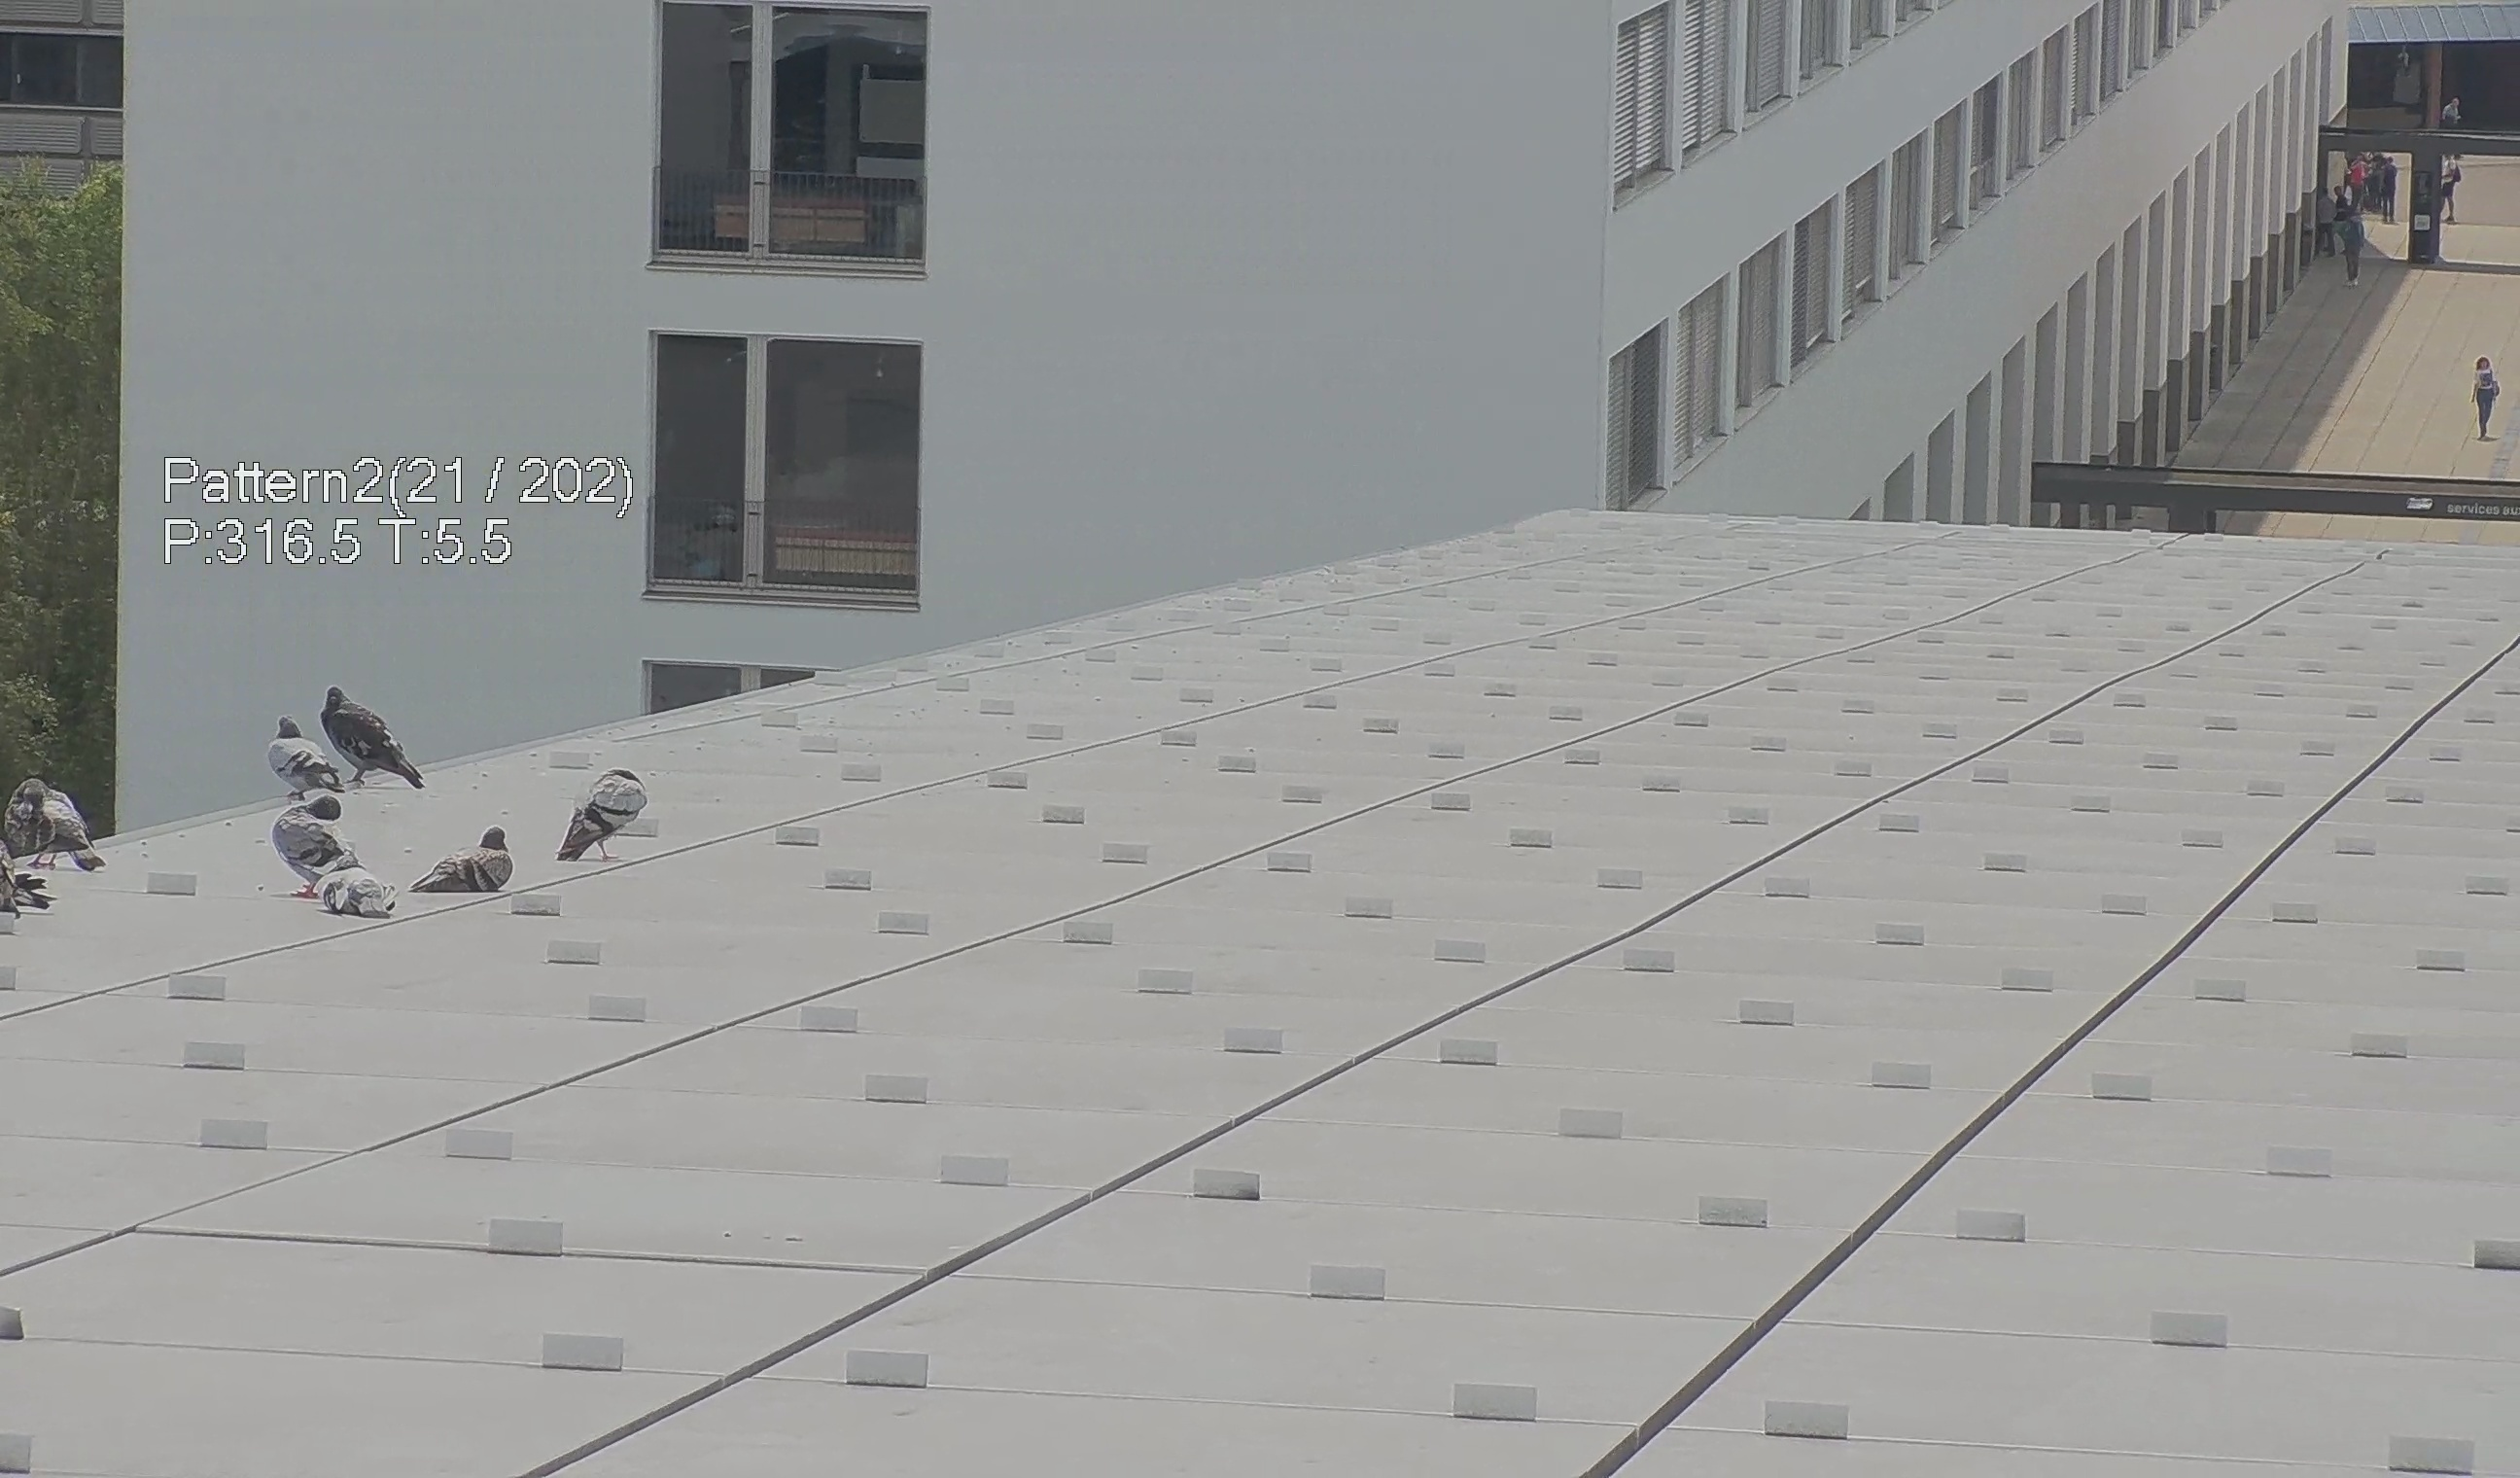Pigeon: (536, 758, 649, 889), (306, 676, 415, 794), (389, 823, 510, 911), (14, 774, 113, 882), (271, 797, 373, 876), (269, 714, 353, 801), (310, 852, 406, 920)
